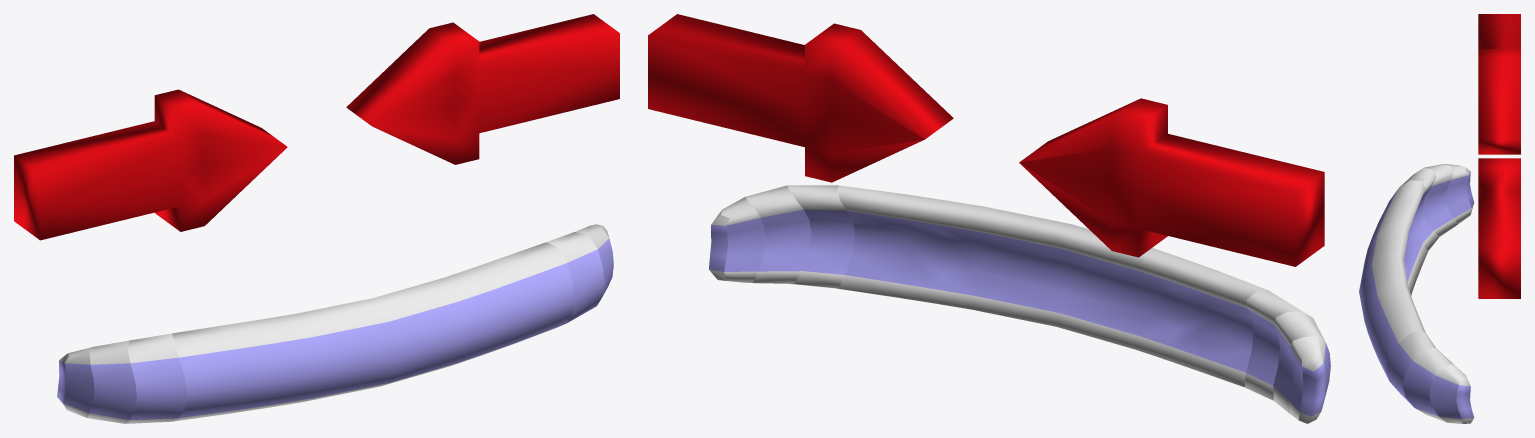
The model's file is MakePaddleSmaller.fbx.
The picture shows the model from 3 angles, left to right: view 1: azimuth 30°, elevation 25°; view 2: azimuth 150°, elevation 25°; view 3: azimuth 270°, elevation 25°; orthographic projection. The views are drawn at different scales.
Visible parts, largest first — view 1: Cube.073, Cube.075, Cube.074; view 2: Cube.073, Cube.075, Cube.074; view 3: Cube.073, Cube.074, Cube.075.
Boxes of the visible parts, box(x1,y1,x2,y2) form: Cube.073: box(57, 224, 613, 423); Cube.075: box(14, 89, 287, 240); Cube.074: box(346, 14, 619, 164); Cube.073: box(709, 185, 1330, 423); Cube.075: box(1019, 98, 1324, 266); Cube.074: box(648, 14, 953, 182); Cube.073: box(1359, 164, 1474, 423); Cube.074: box(1478, 158, 1520, 298); Cube.075: box(1478, 14, 1520, 154).
Bounding box in the file's own units: 358 × 159 × 106.
